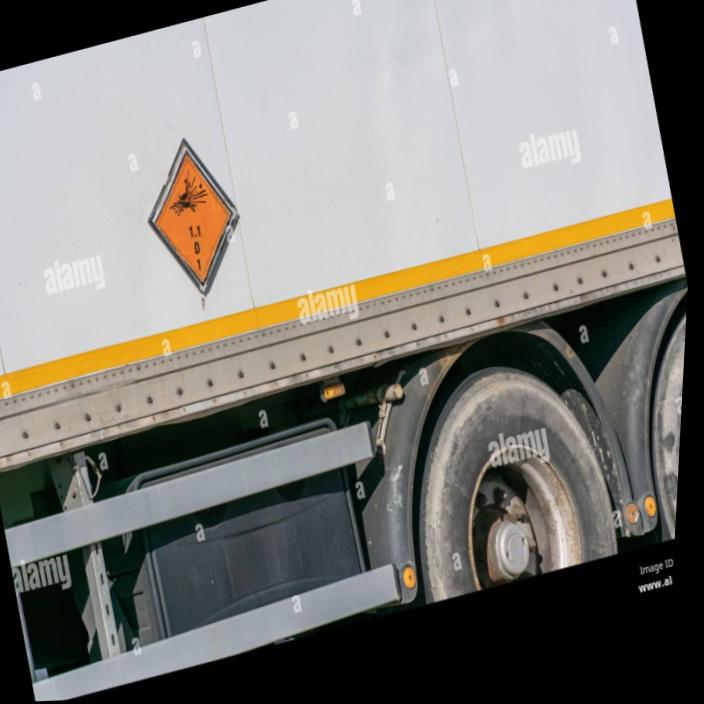bathroom sign: (149, 139, 238, 292)
